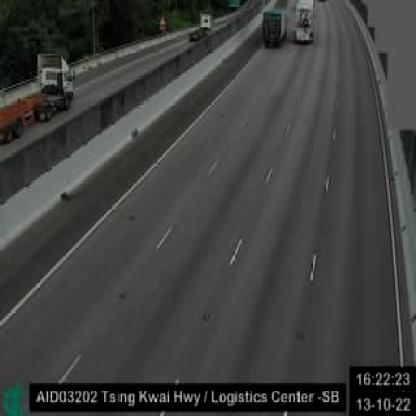Bus: (294, 0, 315, 45)
Truck: (0, 50, 75, 149), (262, 9, 288, 46), (189, 8, 214, 40)
